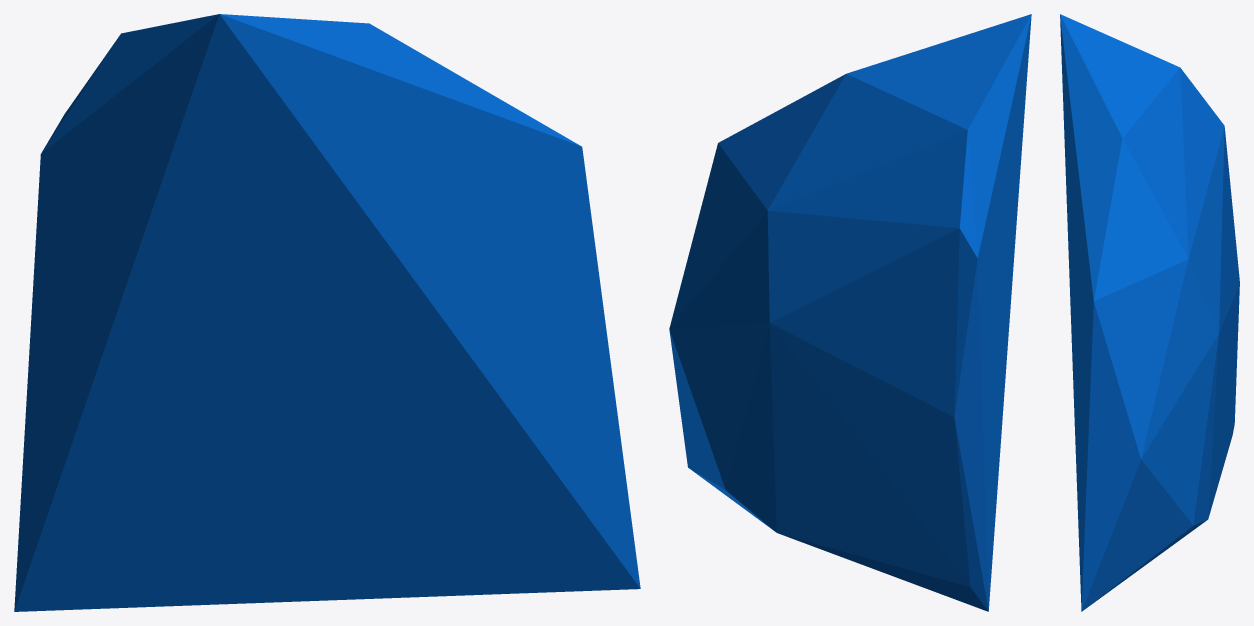
Rendered from shoulder-roll-housing_convex_piece_008.obj.
3 views of the same model, side by side, from view 1: azimuth 30°, elevation 25°; view 2: azimuth 150°, elevation 25°; view 3: azimuth 270°, elevation 25° (orthographic). The views are drawn at different scales.
Size of the model in its own units: 0.0366 by 0.0474 by 0.0169.
